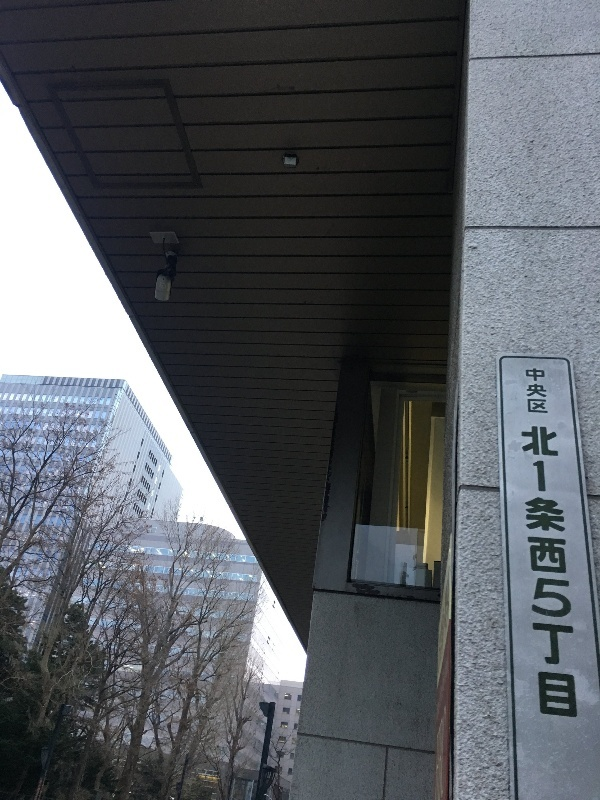text: (529, 426, 544, 718), (545, 426, 560, 718), (561, 426, 576, 718), (520, 426, 528, 718), (577, 426, 580, 718), (529, 368, 544, 414), (525, 368, 528, 414), (545, 368, 548, 414)
